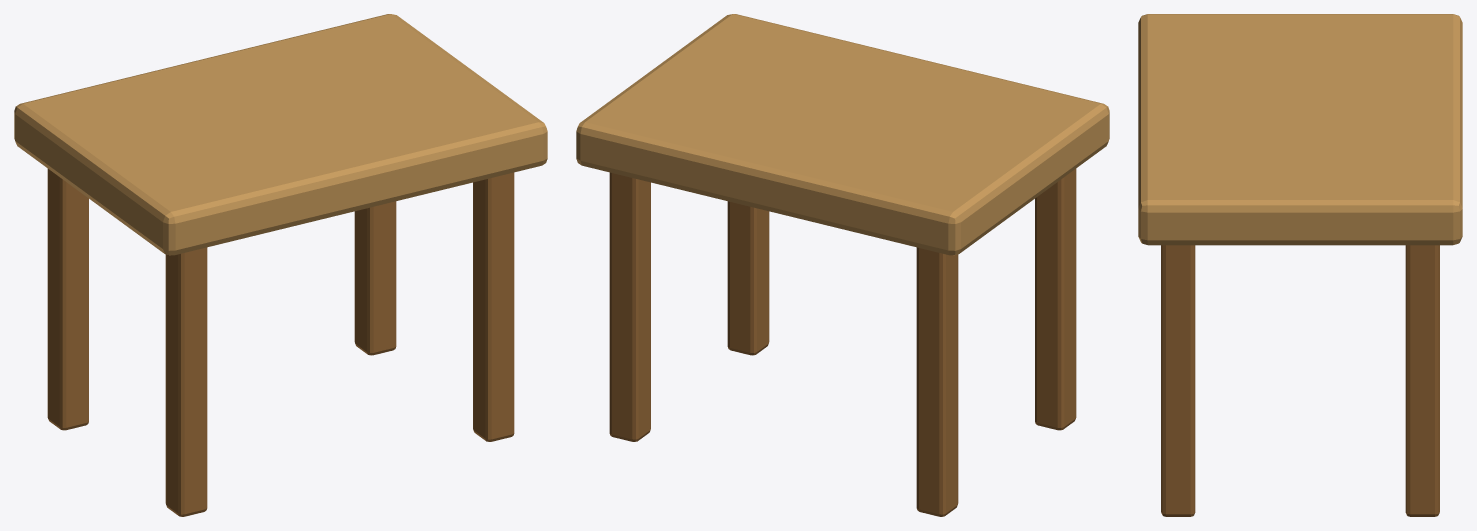
The model's file is table.glb.
3 renders of one model, left to right at view 1: azimuth 30°, elevation 25°; view 2: azimuth 150°, elevation 25°; view 3: azimuth 270°, elevation 25°, orthographic. The views are drawn at different scales.
Parts seen in each view (by area): view 1: table_Palette; view 2: table_Palette; view 3: table_Palette.
Part boxes in pixels (left/top/right/bottom): table_Palette: left=14, top=14, right=547, bottom=516; table_Palette: left=576, top=14, right=1109, bottom=516; table_Palette: left=1138, top=14, right=1462, bottom=516.
Size of the model in its own units: 1.2 by 0.945 by 0.85.
